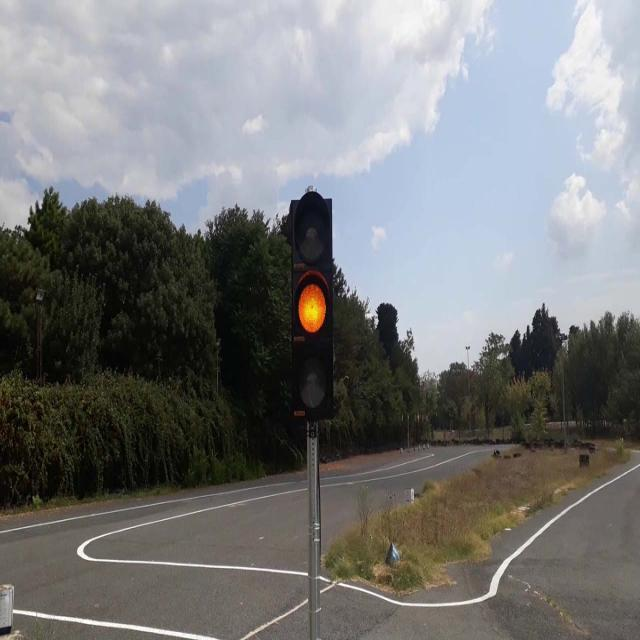sari: (294, 192, 332, 420)
